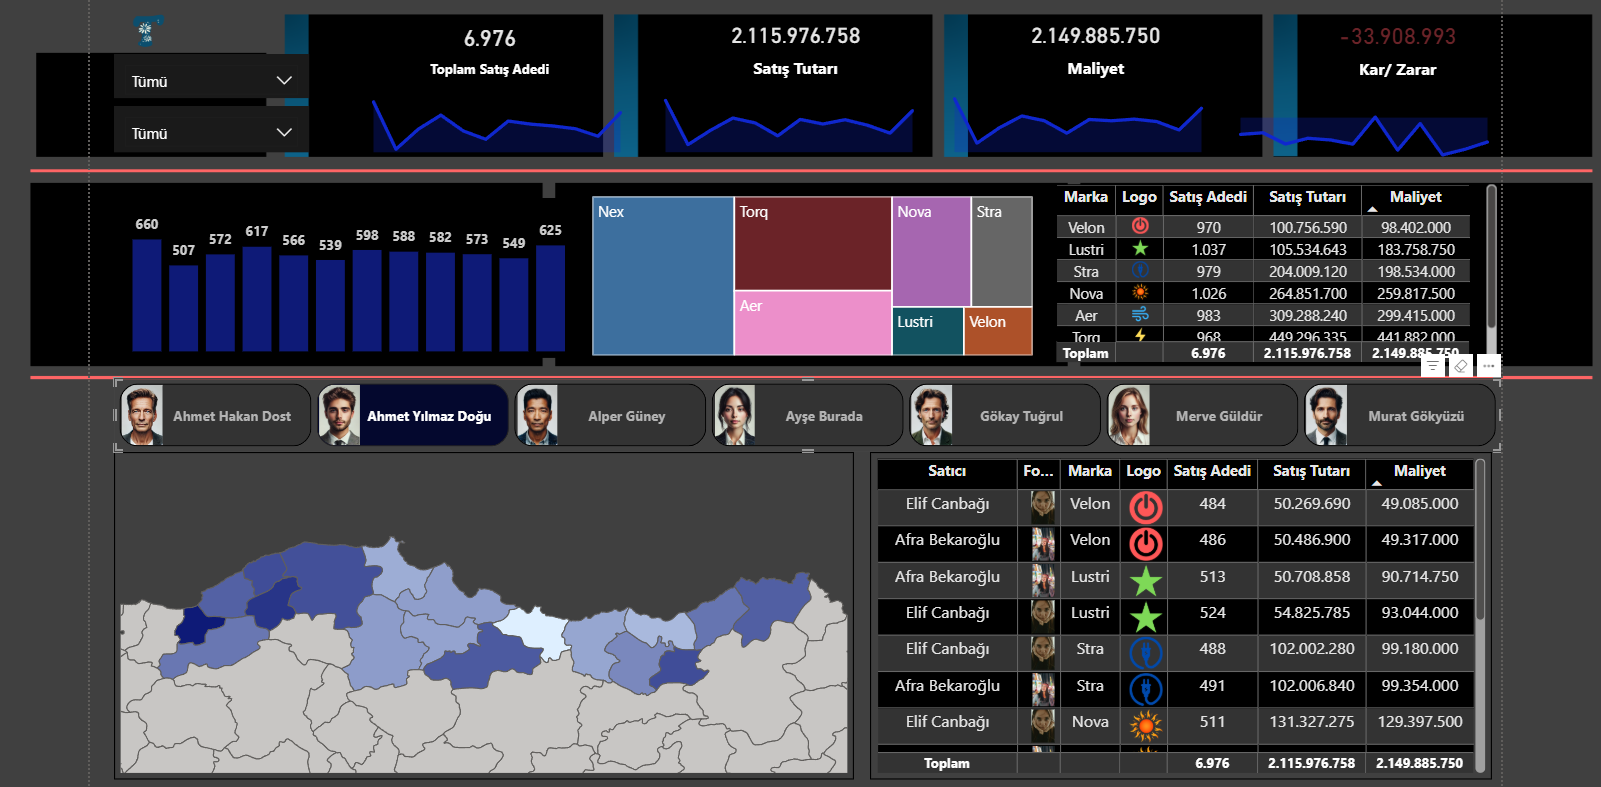

Layout of this report page (visuals, bound fields, positions):
{"tool":"powerbi","page":{"name":"1. sayfa","canvas":[1280,720],"ordinal":0},"visuals":[{"type":"slicer","fields":{"Values":["Tarih_Tablosu.Date.Varyasyon.Tarih Hiyerarşisi.Yıl","Tarih_Tablosu.Date.Varyasyon.Tarih Hiyerarşisi.Çeyrek","Tarih_Tablosu.Date.Varyasyon.Tarih Hiyerarşisi.Ay","Tarih_Tablosu.Date.Varyasyon.Tarih Hiyerarşisi.Gün"]},"box":[21.8,54.4,176.8,39.9],"z":0},{"type":"slicer","fields":{"Values":["urunler.marka"]},"box":[21.8,101.6,176.8,41.7],"z":1000},{"type":"cardVisual","fields":{"Data":["Olculer.Toplam_Satis_Adedi"]},"box":[268.4,8.2,188.6,86.1],"z":2000},{"type":"cardVisual","fields":{"Data":["Olculer.Toplam_Satis_Tutar"]},"box":[545.9,8.2,188.6,86.1],"z":3000},{"type":"cardVisual","fields":{"Data":["Olculer.Kar/zarar"]},"box":[1091.8,8.2,188.6,86.1],"z":4000},{"type":"cardVisual","fields":{"Data":["Olculer.Toplam_Maliyet"]},"box":[817.9,8.2,188.6,86.1],"z":5000},{"type":"lineChart","fields":{"Category":["Tarih_Tablosu.Date.Varyasyon.Tarih Hiyerarşisi.Ay"],"Y":["Olculer.Toplam_Satis_Adedi"]},"box":[243.9,72.5,250.3,76.2],"z":6000},{"type":"lineChart","fields":{"Category":["Tarih_Tablosu.Date.Varyasyon.Tarih Hiyerarşisi.Ay"],"Y":["Olculer.Toplam_Satis_Tutar"]},"box":[508.7,73.5,250.3,75.3],"z":7000},{"type":"lineChart","fields":{"Category":["Tarih_Tablosu.Date.Varyasyon.Tarih Hiyerarşisi.Ay"],"Y":["Olculer.Toplam_Maliyet"]},"box":[770.8,73.5,250.3,75.3],"z":8000},{"type":"lineChart","fields":{"Category":["Tarih_Tablosu.Date.Varyasyon.Tarih Hiyerarşisi.Ay"],"Y":["Olculer.Kar/zarar"]},"box":[1030.1,84.3,250.3,75.3],"z":9000},{"type":"columnChart","fields":{"Category":["Tarih_Tablosu.Date.Varyasyon.Tarih Hiyerarşisi.Ay"],"Y":["Olculer.Toplam_Satis_Adedi"]},"box":[33.6,185,402.6,145.1],"z":10000},{"type":"treemap","fields":{"Group":["urunler.marka"],"Values":["Olculer.Toplam_Satis_Tutar"]},"box":[450.7,178.6,409,154.2],"z":11000},{"type":"tableEx","fields":{"Values":["urunler.marka","urunler.logo","Olculer.Toplam_Satis_Adedi","Olculer.Toplam_Satis_Tutar","Olculer.Toplam_Maliyet"]},"box":[870.5,167.8,409.9,171.4],"z":12000},{"type":"advancedSlicerVisual","fields":{"Values":["yoneticiler.yonetici"]},"box":[21.8,348.2,1258.6,67.1],"z":13000},{"type":"shapeMap","fields":{"Value":["Olculer.Toplam_Satis_Adedi"],"Category":["bolgeler.Merkez"]},"box":[21.8,415.3,671,297.4],"z":14000},{"type":"tableEx","fields":{"Values":["urunler.marka","urunler.logo","Olculer.Toplam_Satis_Adedi","Olculer.Toplam_Satis_Tutar","Olculer.Toplam_Maliyet"]},"box":[870.1,167.8,409.9,171.4],"z":15000},{"type":"tableEx","fields":{"Values":["saticilar.satici","saticilar.foto","urunler.marka","urunler.logo","Olculer.Toplam_Satis_Adedi","Olculer.Toplam_Satis_Tutar","Olculer.Toplam_Maliyet"]},"box":[707.3,415.3,564,297.4],"z":16000}]}

Visuals, with their boxes on the page's 1280x720 design canvas (x1, y1, x2, y2). These are canvas units, not pixel positions in the 1601x787 screenshot, which may show the page scaled, cropped or inside an application window:
slicer - Tarih_Tablosu.Date.Varyasyon.Tarih Hiyerarşisi.Yıl x Tarih_Tablosu.Date.Varyasyon.Tarih Hiyerarşisi.Çeyrek: (22,54,199,94)
slicer - urunler.marka: (22,102,199,143)
cardVisual - Olculer.Toplam_Satis_Adedi: (268,8,457,94)
cardVisual - Olculer.Toplam_Satis_Tutar: (546,8,734,94)
cardVisual - Olculer.Kar/zarar: (1092,8,1280,94)
cardVisual - Olculer.Toplam_Maliyet: (818,8,1006,94)
lineChart - Tarih_Tablosu.Date.Varyasyon.Tarih Hiyerarşisi.Ay x Olculer.Toplam_Satis_Adedi: (244,72,494,149)
lineChart - Tarih_Tablosu.Date.Varyasyon.Tarih Hiyerarşisi.Ay x Olculer.Toplam_Satis_Tutar: (509,74,759,149)
lineChart - Tarih_Tablosu.Date.Varyasyon.Tarih Hiyerarşisi.Ay x Olculer.Toplam_Maliyet: (771,74,1021,149)
lineChart - Tarih_Tablosu.Date.Varyasyon.Tarih Hiyerarşisi.Ay x Olculer.Kar/zarar: (1030,84,1280,160)
columnChart - Tarih_Tablosu.Date.Varyasyon.Tarih Hiyerarşisi.Ay x Olculer.Toplam_Satis_Adedi: (34,185,436,330)
treemap - urunler.marka x Olculer.Toplam_Satis_Tutar: (451,179,860,333)
tableEx - urunler.marka x urunler.logo: (870,168,1280,339)
advancedSlicerVisual - yoneticiler.yonetici: (22,348,1280,415)
shapeMap - Olculer.Toplam_Satis_Adedi x bolgeler.Merkez: (22,415,693,713)
tableEx - urunler.marka x urunler.logo: (870,168,1280,339)
tableEx - saticilar.satici x saticilar.foto: (707,415,1271,713)
